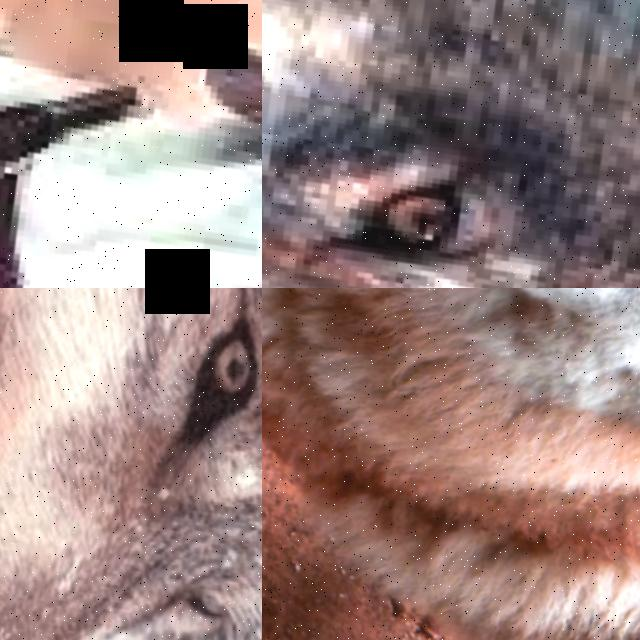dog: (0, 0, 262, 288)
wolf: (262, 288, 640, 640), (262, 0, 640, 288), (0, 288, 262, 640)
